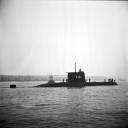submarine: (10, 64, 119, 89)
